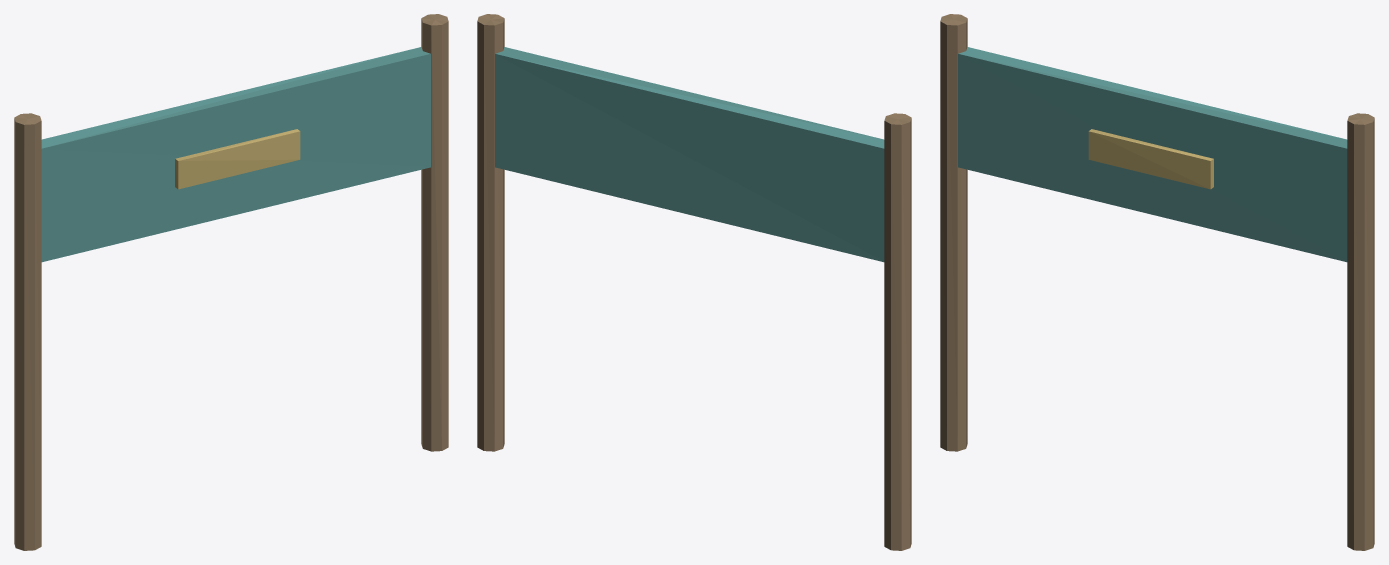
Rendered from desert_race_banner.glb.
The picture shows the model from 3 angles, left to right: view 1: azimuth 30°, elevation 25°; view 2: azimuth 150°, elevation 25°; view 3: azimuth 330°, elevation 25°; orthographic projection.
Parts seen in each view (by area): view 1: banner, post_-0.75, post_0.75, gold_trim; view 2: banner, post_-0.75, post_0.75; view 3: banner, post_0.75, post_-0.75, gold_trim.
Part boxes in pixels (box(x1,y1,x2,y2)): banner: box(41, 47, 430, 262); post_-0.75: box(14, 113, 41, 550); post_0.75: box(421, 14, 448, 451); gold_trim: box(175, 129, 300, 189); banner: box(495, 47, 884, 262); post_-0.75: box(884, 113, 911, 550); post_0.75: box(477, 14, 504, 451); banner: box(958, 47, 1347, 262); post_0.75: box(1347, 113, 1374, 550); post_-0.75: box(940, 14, 967, 451); gold_trim: box(1088, 129, 1213, 189).
Size of the model in its own units: 1.59 by 1.5 by 0.095.
